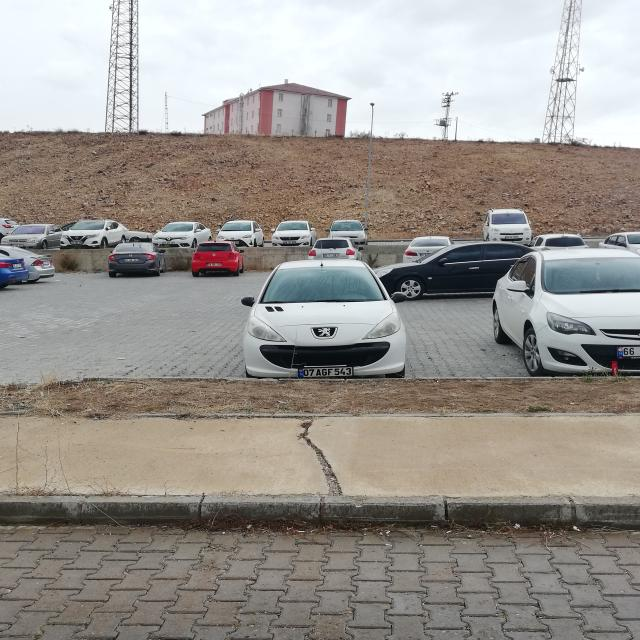license_plate: (298, 368, 353, 378), (617, 346, 640, 357)
